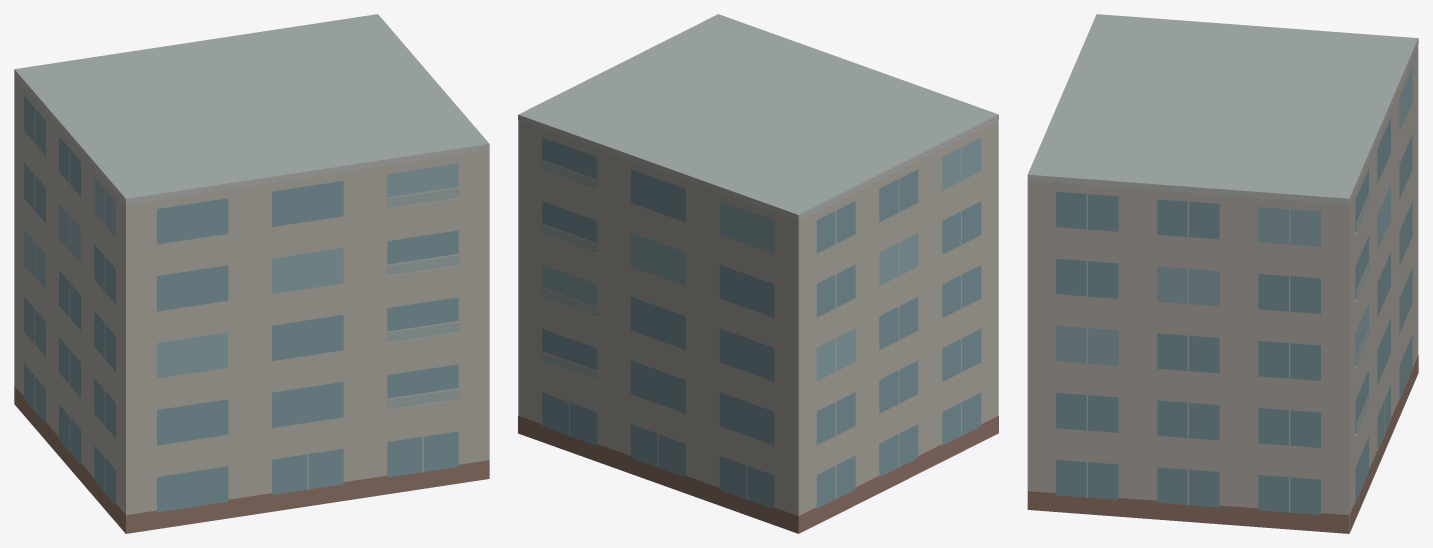
File: survey-upis-32658080.glb
The picture shows the model from 3 angles, left to right: view 1: azimuth 30°, elevation 25°; view 2: azimuth 150°, elevation 25°; view 3: azimuth 270°, elevation 25°; orthographic projection. The views are drawn at different scales.
Visible parts, largest first — view 1: survey-upis-32658080.tmp; view 2: survey-upis-32658080.tmp; view 3: survey-upis-32658080.tmp.
Boxes of the visible parts, bbox=[...] form: survey-upis-32658080.tmp: bbox=[14, 14, 489, 533]; survey-upis-32658080.tmp: bbox=[518, 14, 998, 533]; survey-upis-32658080.tmp: bbox=[1027, 14, 1418, 533].
Bounding box in the file's own units: 16.21 × 13.7 × 14.49.
